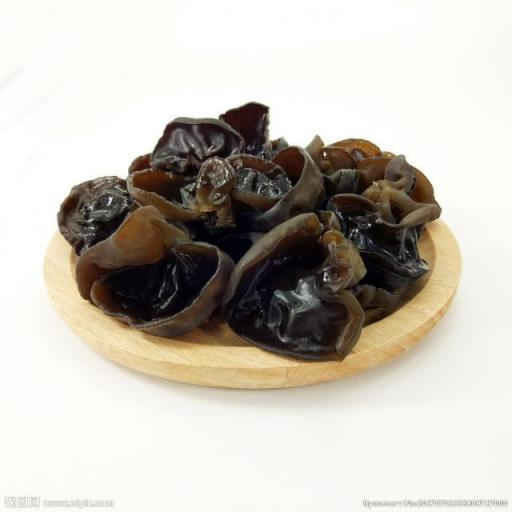Wood Ear Mushroom: (59, 102, 442, 365)
